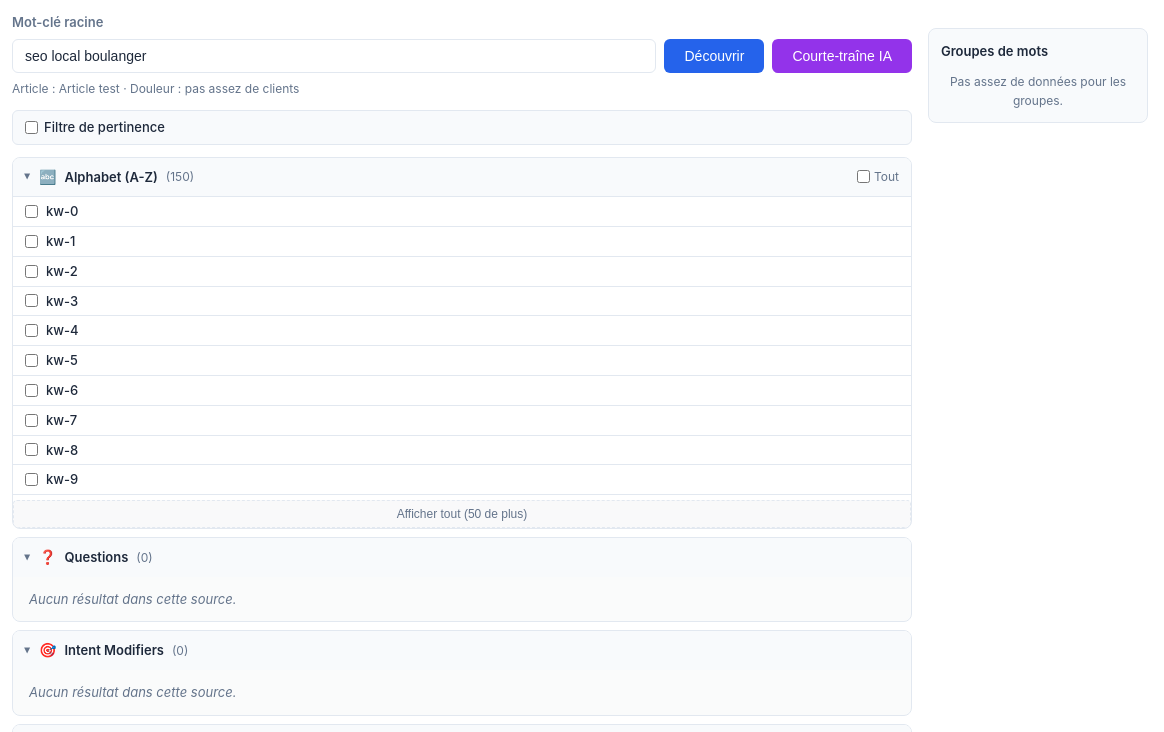
DiscoveryPanel — pagination > 100 items › clic sur "Tout afficher" → bascule en "Réduire"
Click the button with class "source-list__expand-btn" at (462, 514), box [13,500,911,528]
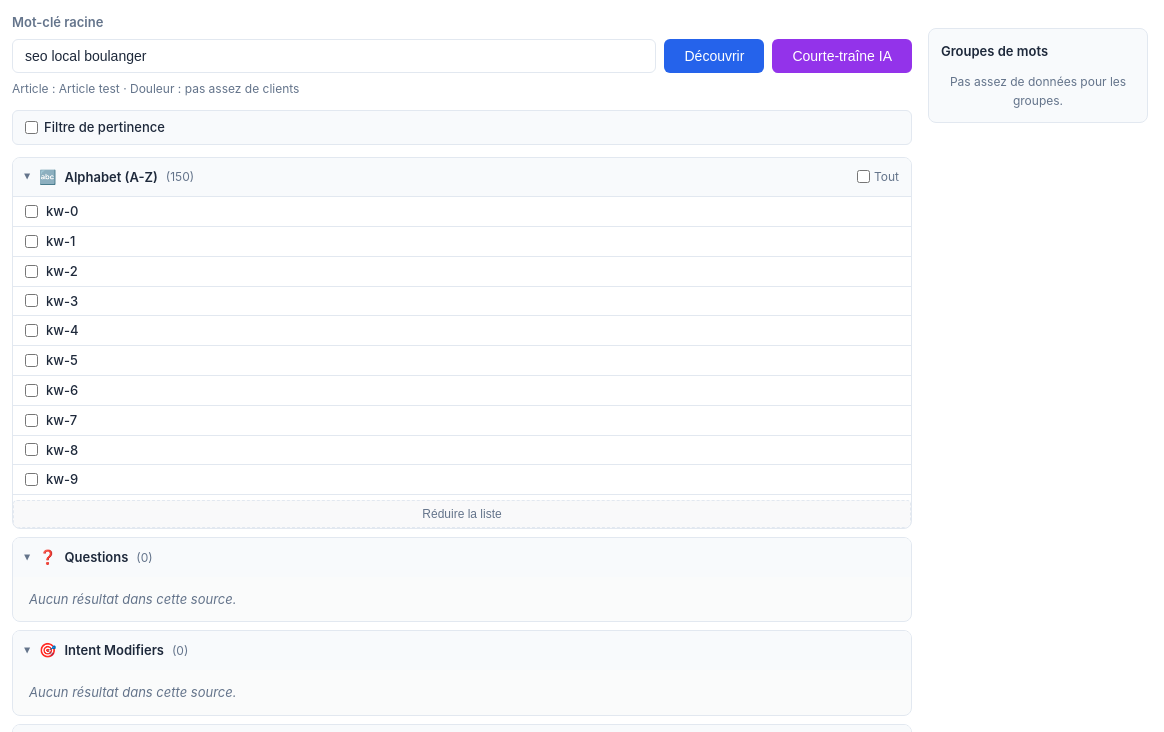
Now the button with class "source-list__expand-btn" shows "Réduire", box [13,500,911,528]
